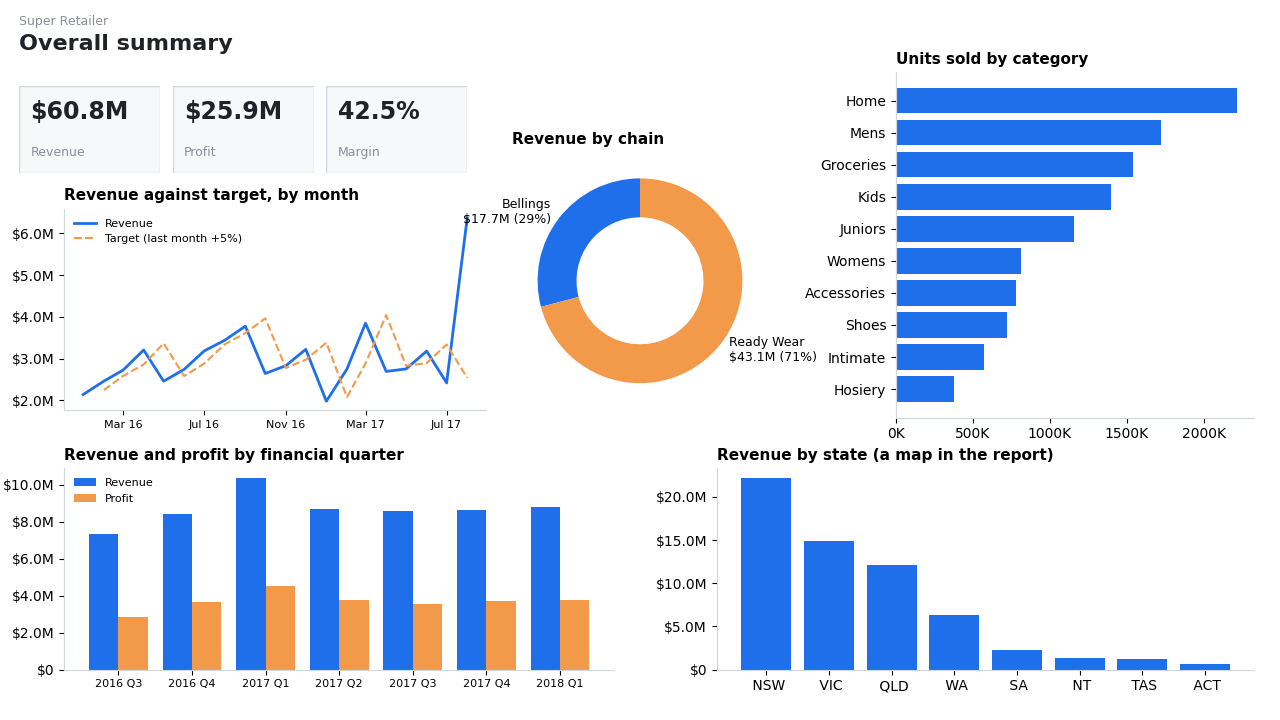

The page's visual inventory and layout, read from the dashboard file:
{"tool":"powerbi","page":{"name":"Overall summary","canvas":[1280,720],"ordinal":0},"visuals":[{"type":"kpi","fields":{"TrendLine":["Dates.Date"],"Indicator":["Sum(Sales.Revenue)"],"Goal":["Sales.Target Revenue"]},"box":[0,239.1,325.9,209.9],"z":0},{"type":"lineClusteredColumnComboChart","fields":{"Category":["Dates.FY Qtr"],"Y2":["Sum(Sales.Profit)"],"Y":["Sum(Sales.Revenue)"]},"box":[0,456.1,643.8,263.9],"z":1000},{"type":"donutChart","fields":{"Category":["Sales.Chain"],"Y":["Sum(Sales.Revenue)"]},"box":[337.4,112.5,448.1,336.5],"z":2000},{"type":"filledMap","fields":{"Category":["Regions.State,country"]},"box":[656.2,456.1,623.5,263.9],"z":3000},{"type":"clusteredBarChart","fields":{"Y":["Sum(Sales.Total Units)"],"Category":["Sales.Category"]},"box":[793.5,0,486.2,449],"z":4000},{"type":"card","fields":{"Values":["Sum(Sales.Revenue)"]},"box":[565,0.9,220.5,100.1],"z":5000},{"type":"card","fields":{"Values":["Sum(Sales.Profit)"]},"box":[337.4,0,221.4,101.8],"z":6000},{"type":"slicer","fields":{"Values":["Dates.Financial Year"]},"box":[129.3,0,196.6,104.5],"z":7000},{"type":"slicer","fields":{"Values":["Regions.State"]},"box":[0,0,119.6,231.1],"z":8000},{"type":"card","fields":{"Values":["Sales.Margin %"]},"box":[134.6,118.7,191.3,112.5],"z":9000},{"type":"actionButton","box":[1246.9,679.3,32.8,40.7],"z":9001}]}

Visuals, with their boxes in screenshot pixels (x1, y1, x2, y2), scaled from the page's 1280x720 canvas onto the 1280x720 screenshot:
kpi - Dates.Date x Sum(Sales.Revenue): select_region(0, 239, 326, 449)
lineClusteredColumnComboChart - Dates.FY Qtr x Sum(Sales.Profit): select_region(0, 456, 644, 719)
donutChart - Sales.Chain x Sum(Sales.Revenue): select_region(337, 112, 786, 449)
filledMap - Regions.State,country: select_region(656, 456, 1279, 719)
clusteredBarChart - Sum(Sales.Total Units) x Sales.Category: select_region(794, 0, 1279, 449)
card - Sum(Sales.Revenue): select_region(565, 1, 786, 101)
card - Sum(Sales.Profit): select_region(337, 0, 559, 102)
slicer - Dates.Financial Year: select_region(129, 0, 326, 104)
slicer - Regions.State: select_region(0, 0, 120, 231)
card - Sales.Margin %: select_region(135, 119, 326, 231)
actionButton: select_region(1247, 679, 1279, 719)
